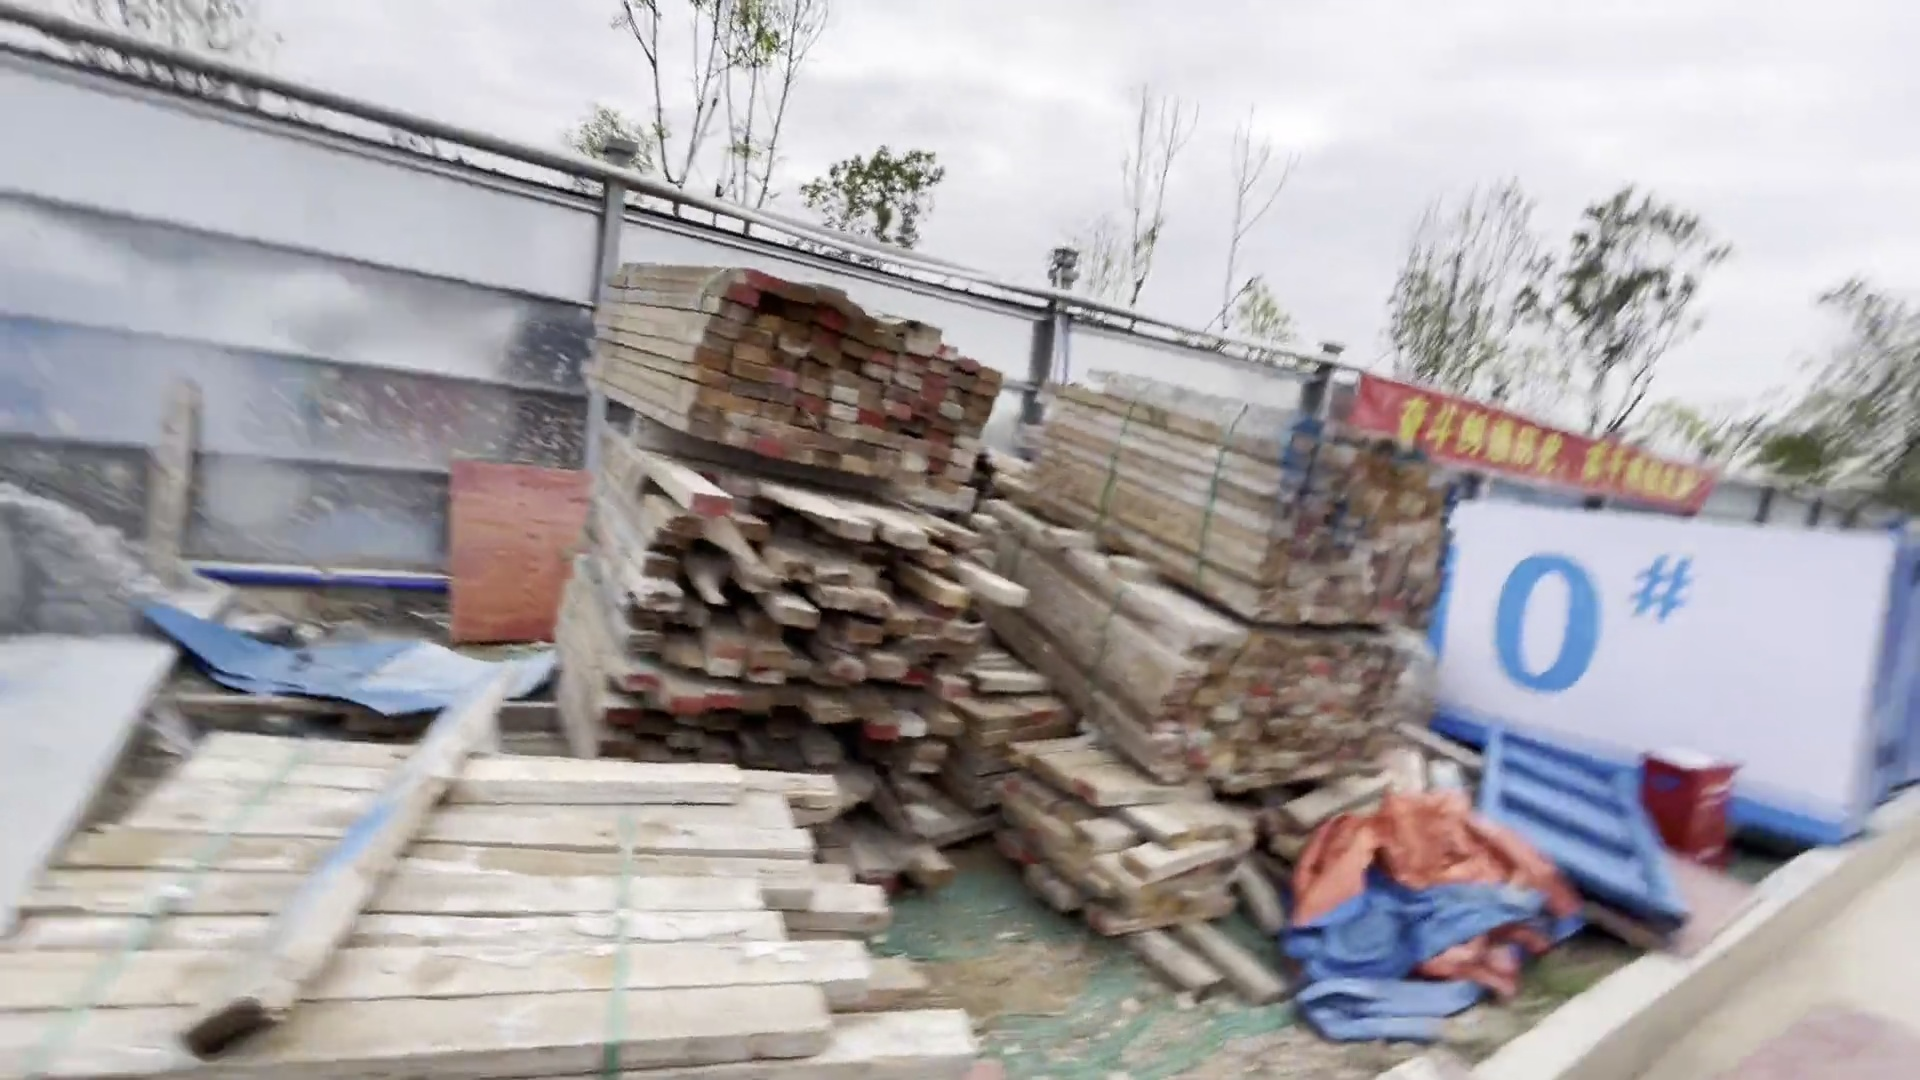wood: (99, 731, 992, 1073), (611, 241, 982, 847), (1004, 319, 1422, 774), (992, 735, 1262, 927)
